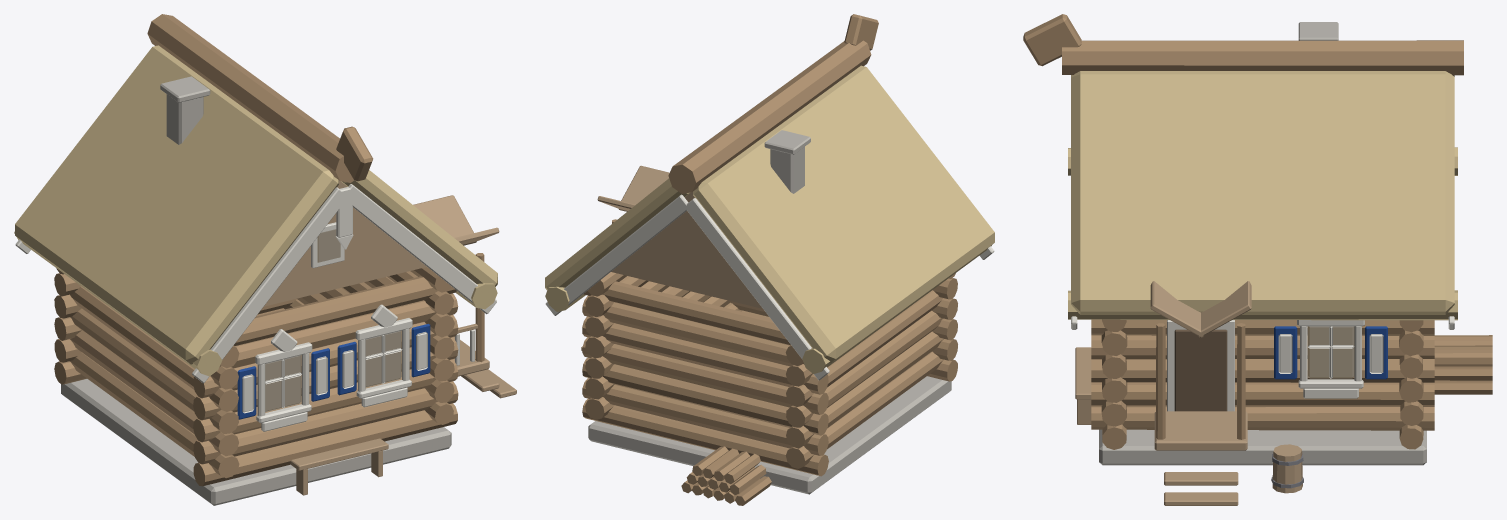
The model's file is bld_izba.glb.
The picture shows the model from 3 angles, left to right: view 1: azimuth 30°, elevation 25°; view 2: azimuth 150°, elevation 25°; view 3: azimuth 270°, elevation 25°; orthographic projection. The views are drawn at different scales.
Visible parts, largest first — view 1: izba; view 2: izba; view 3: izba.
Boxes of the visible parts, bbox=[...] form: izba: bbox=[14, 14, 516, 505]; izba: bbox=[545, 14, 994, 505]; izba: bbox=[1023, 14, 1492, 505].
Bounding box in the file's own units: 1.48 × 1.38 × 1.52.
